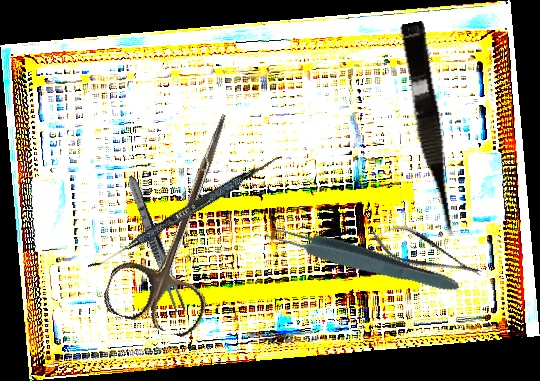Dressing Forceps: (123, 173, 189, 315)
Iris Scissors: (99, 96, 267, 342)
Micro Scissor: (395, 20, 462, 240), (364, 214, 488, 292)
Spatula Surgical: (87, 147, 284, 278)
Tissue Forceps: (261, 218, 463, 299)
